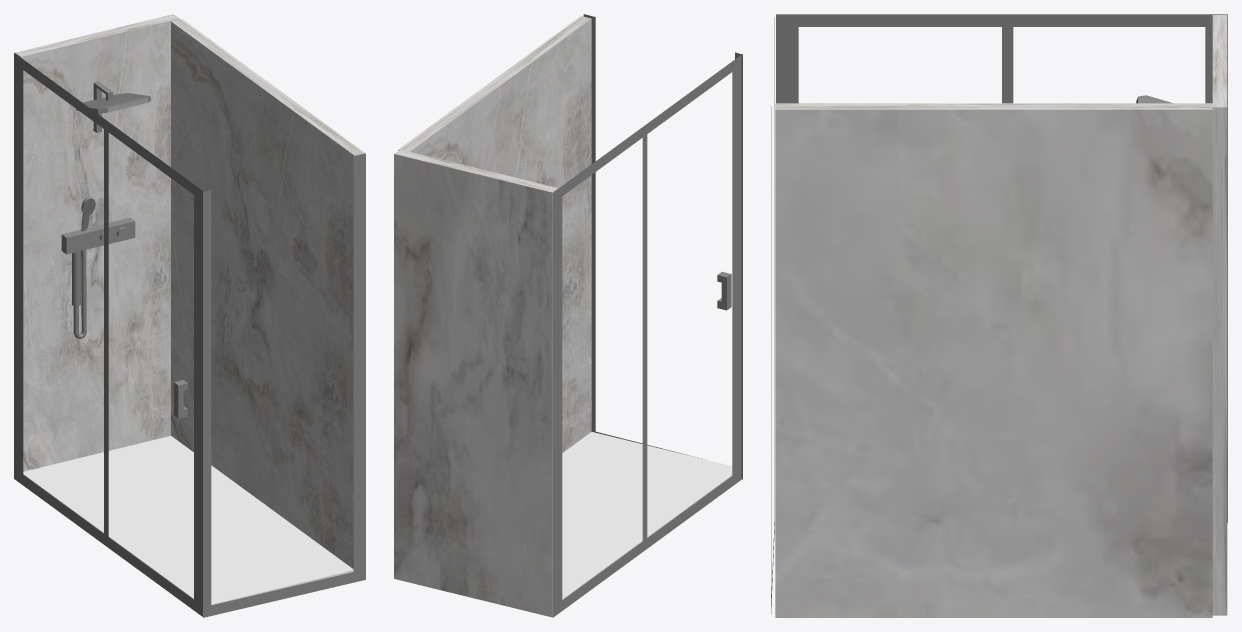
Rendered from kinewall-6-transformed.glb.
3 renders of one model, left to right at view 1: azimuth 30°, elevation 25°; view 2: azimuth 150°, elevation 25°; view 3: azimuth 270°, elevation 25°, orthographic. The views are drawn at different scales.
Parts seen in each view (by area): view 1: kinewall-back, kinewall; view 2: kinewall-back, kinewall; view 3: kinewall-back, kinewall.
Part boxes in pixels (x1,y1,x2,y2): kinewall-back: (15, 14, 365, 568); kinewall: (14, 53, 365, 617); kinewall-back: (394, 16, 591, 617); kinewall: (552, 14, 742, 617); kinewall-back: (775, 15, 1227, 617); kinewall: (771, 14, 1227, 614).
Size of the model in its own units: 3.19 by 7.71 by 6.27.
Materials: 4 (1 with a texture image).
